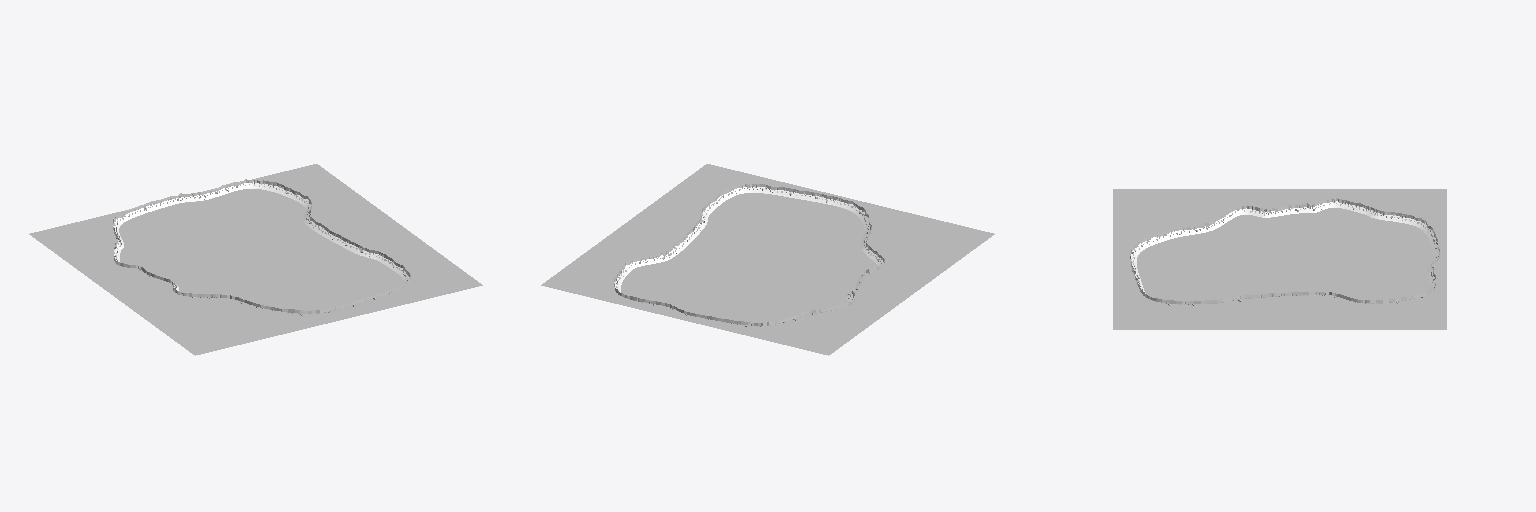
3 renders of one model, left to right at view 1: azimuth 30°, elevation 25°; view 2: azimuth 150°, elevation 25°; view 3: azimuth 270°, elevation 25°, orthographic.
Parts seen in each view (by area): view 1: Plane, Wall_08, Wall_07; view 2: Plane, Wall_02; view 3: Plane, Wall_05, Wall_06, Wall_04, Wall_03.
Boxes of the visible parts, <box> form: Plane: <box>29,164,482,355</box>; Wall_08: <box>192,179,277,201</box>; Wall_07: <box>115,193,193,223</box>; Plane: <box>541,164,994,355</box>; Wall_02: <box>750,184,837,205</box>; Plane: <box>1113,189,1446,329</box>; Wall_05: <box>1262,198,1345,217</box>; Wall_06: <box>1344,200,1425,227</box>; Wall_04: <box>1191,205,1262,234</box>; Wall_03: <box>1130,227,1191,261</box>.
Bounding box in the file's own units: 1400 × 34.41 × 1400.